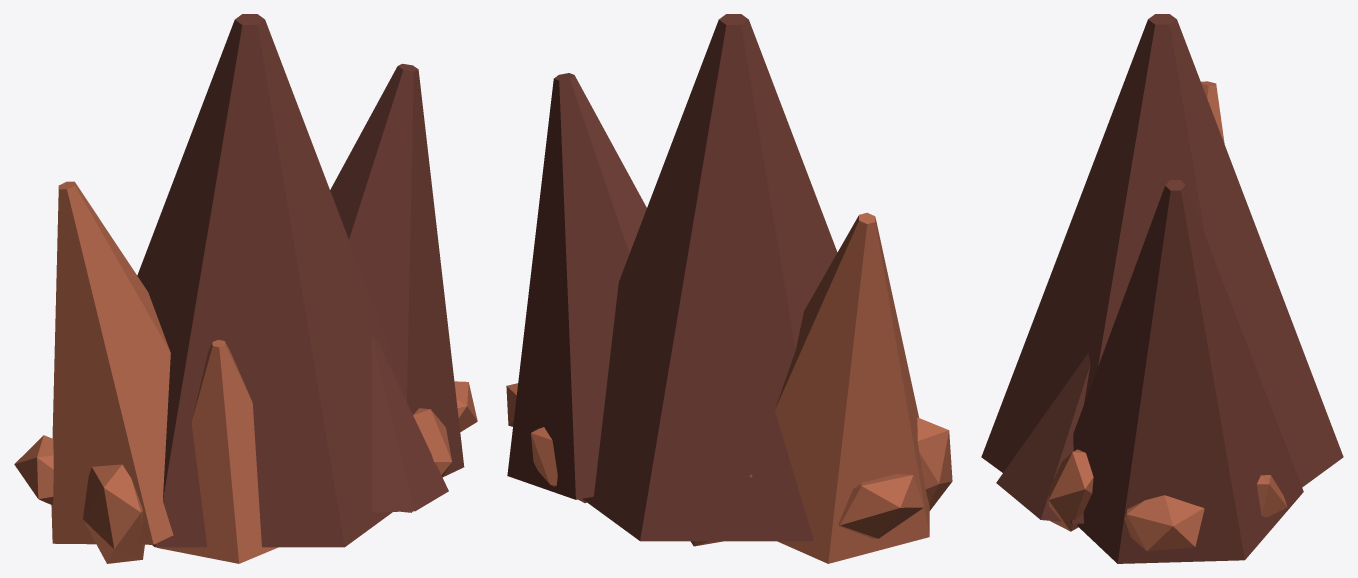
File: martian-rock.glb
3 views of the same model, side by side, from view 1: azimuth 30°, elevation 25°; view 2: azimuth 150°, elevation 25°; view 3: azimuth 270°, elevation 25° (orthographic). The views are drawn at different scales.
Parts seen in each view (by area): view 1: martian-rock; view 2: martian-rock; view 3: martian-rock.
Part boxes in pixels (x1,y1,x2,y2): martian-rock: (14, 14, 477, 563); martian-rock: (506, 14, 952, 563); martian-rock: (981, 14, 1343, 563).
Bounding box in the file's own units: 3.51 × 3.83 × 2.7.
